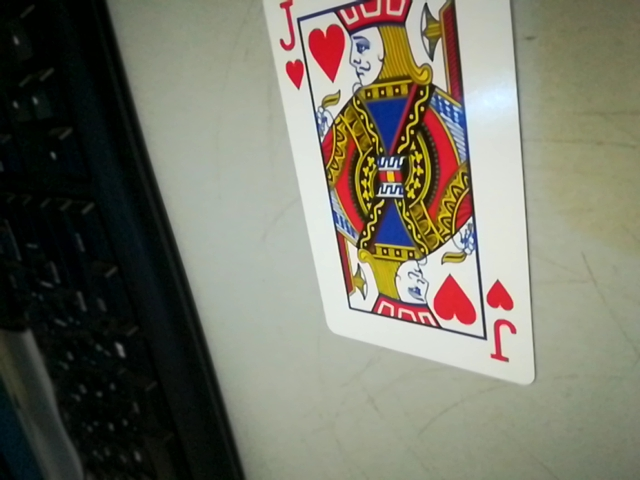hx j: (478, 276, 526, 373)
